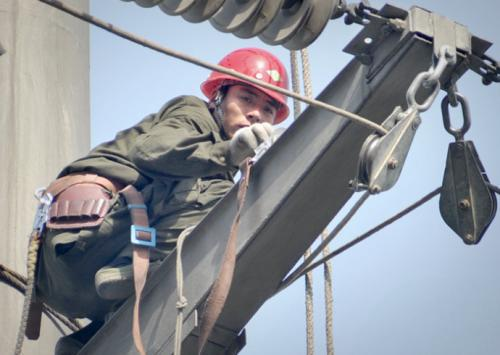helmet: (197, 39, 296, 141)
